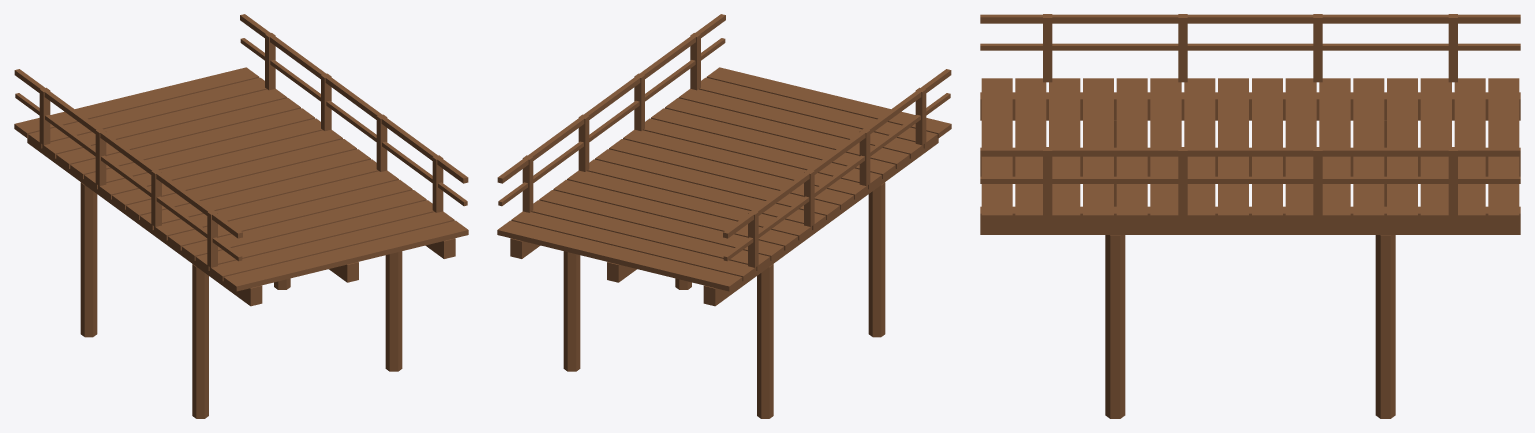
The model's file is Bridge_Wood_1Lane_8m.glb.
3 views of the same model, side by side, from view 1: azimuth 30°, elevation 25°; view 2: azimuth 150°, elevation 25°; view 3: azimuth 270°, elevation 25° (orthographic). The views are drawn at different scales.
Visible parts, largest first — view 1: Bridge_Wood_1Lane_8m_Wood; view 2: Bridge_Wood_1Lane_8m_Wood; view 3: Bridge_Wood_1Lane_8m_Wood.
Boxes of the visible parts, x1,y1,x2,y2 form: Bridge_Wood_1Lane_8m_Wood: [14, 14, 468, 418]; Bridge_Wood_1Lane_8m_Wood: [497, 14, 951, 418]; Bridge_Wood_1Lane_8m_Wood: [980, 14, 1520, 418].
Bounding box in the file's own units: 4.8 × 4.5 × 8.
